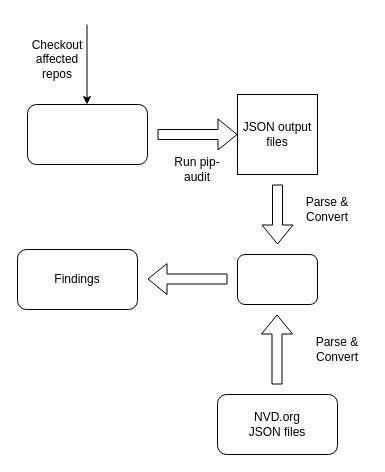
Some shapes in this 385 by 472 pixel diagram are drawn without their labels. Here are the shapes that lost their labels. From the top down, the centre of each, then its label:
(x=87, y=134): Github repos
(x=277, y=279): CSV-files
